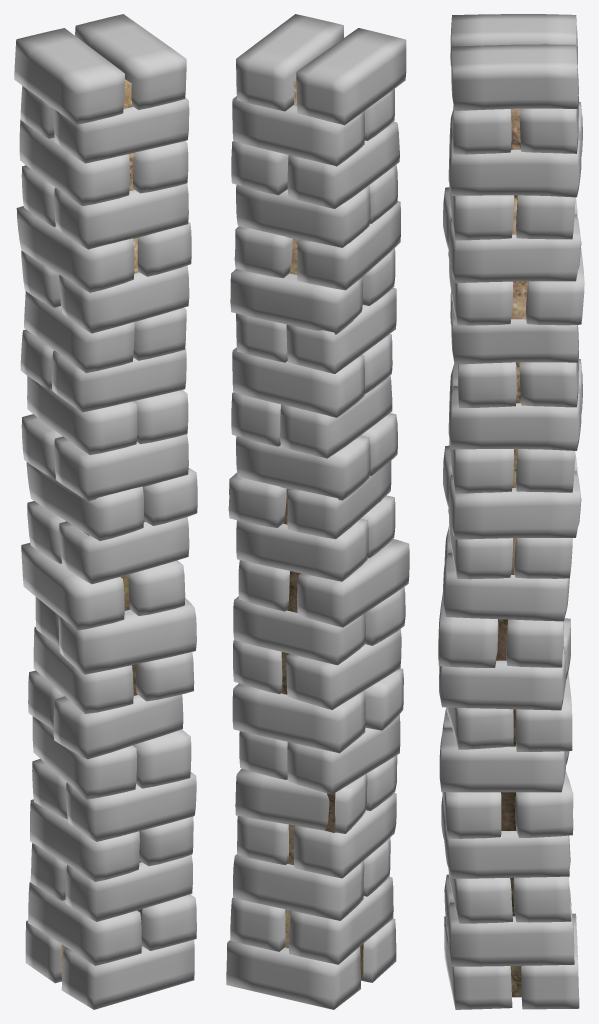
File: pillar.fbx
The picture shows the model from 3 angles, left to right: view 1: azimuth 30°, elevation 25°; view 2: azimuth 150°, elevation 25°; view 3: azimuth 270°, elevation 25°; orthographic projection.
Parts seen in each view (by area): view 1: Pillar; view 2: Pillar; view 3: Pillar.
Part boxes in pixels (box(x1,y1,x2,y2)): Pillar: box(14, 14, 197, 1009); Pillar: box(226, 14, 409, 1009); Pillar: box(438, 14, 584, 1009).
Size of the model in its own units: 38.34 by 274 by 38.69.
